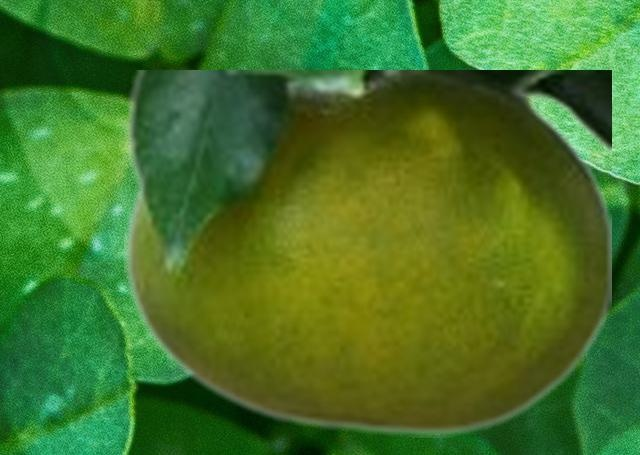dalandan: (124, 70, 610, 436)
